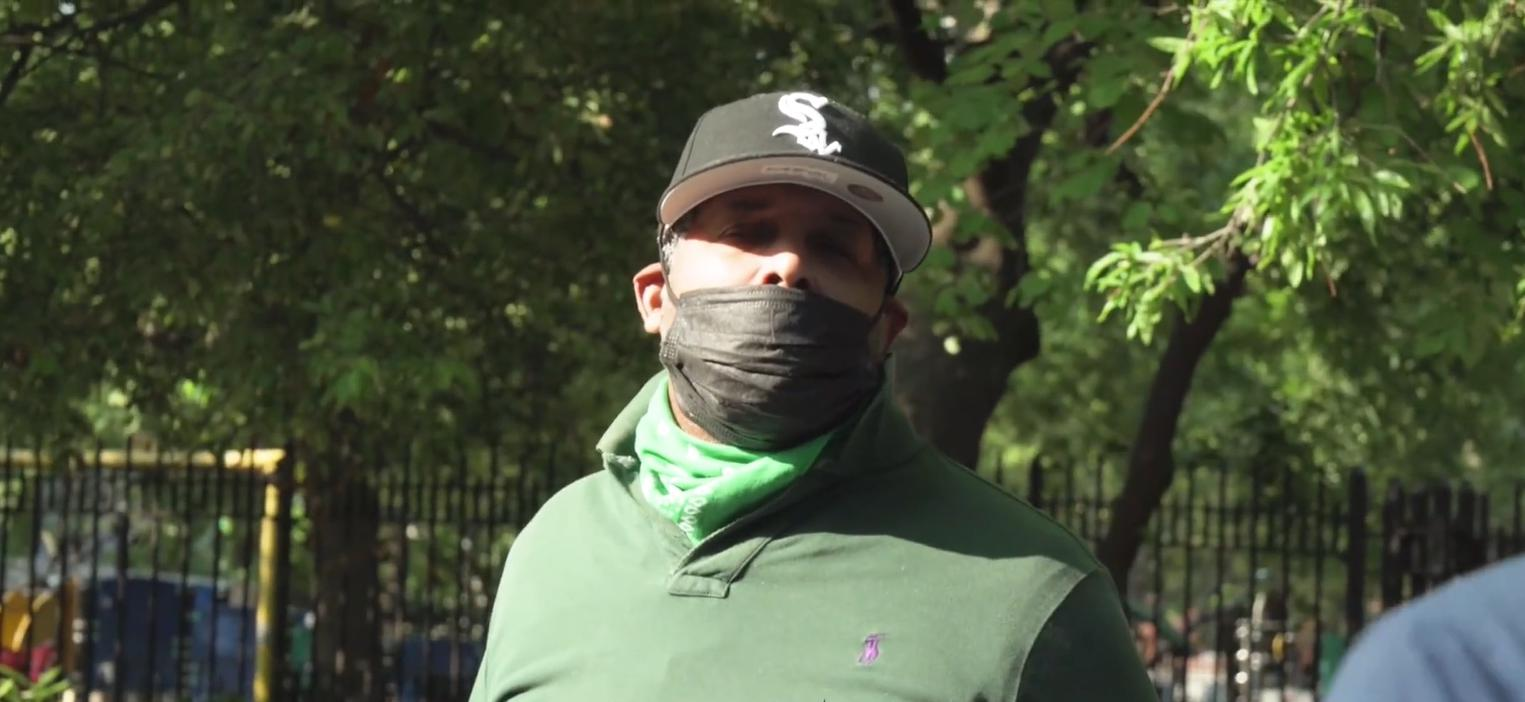with_incorrect_mask: (673, 212, 874, 418)
